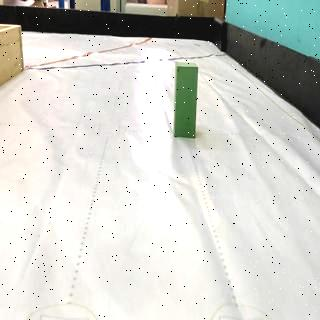greenbox: (175, 64, 197, 137)
